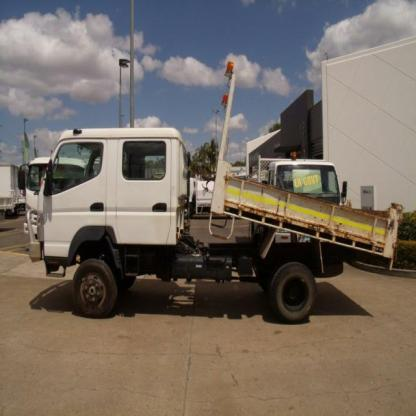truck: (25, 62, 403, 324)
